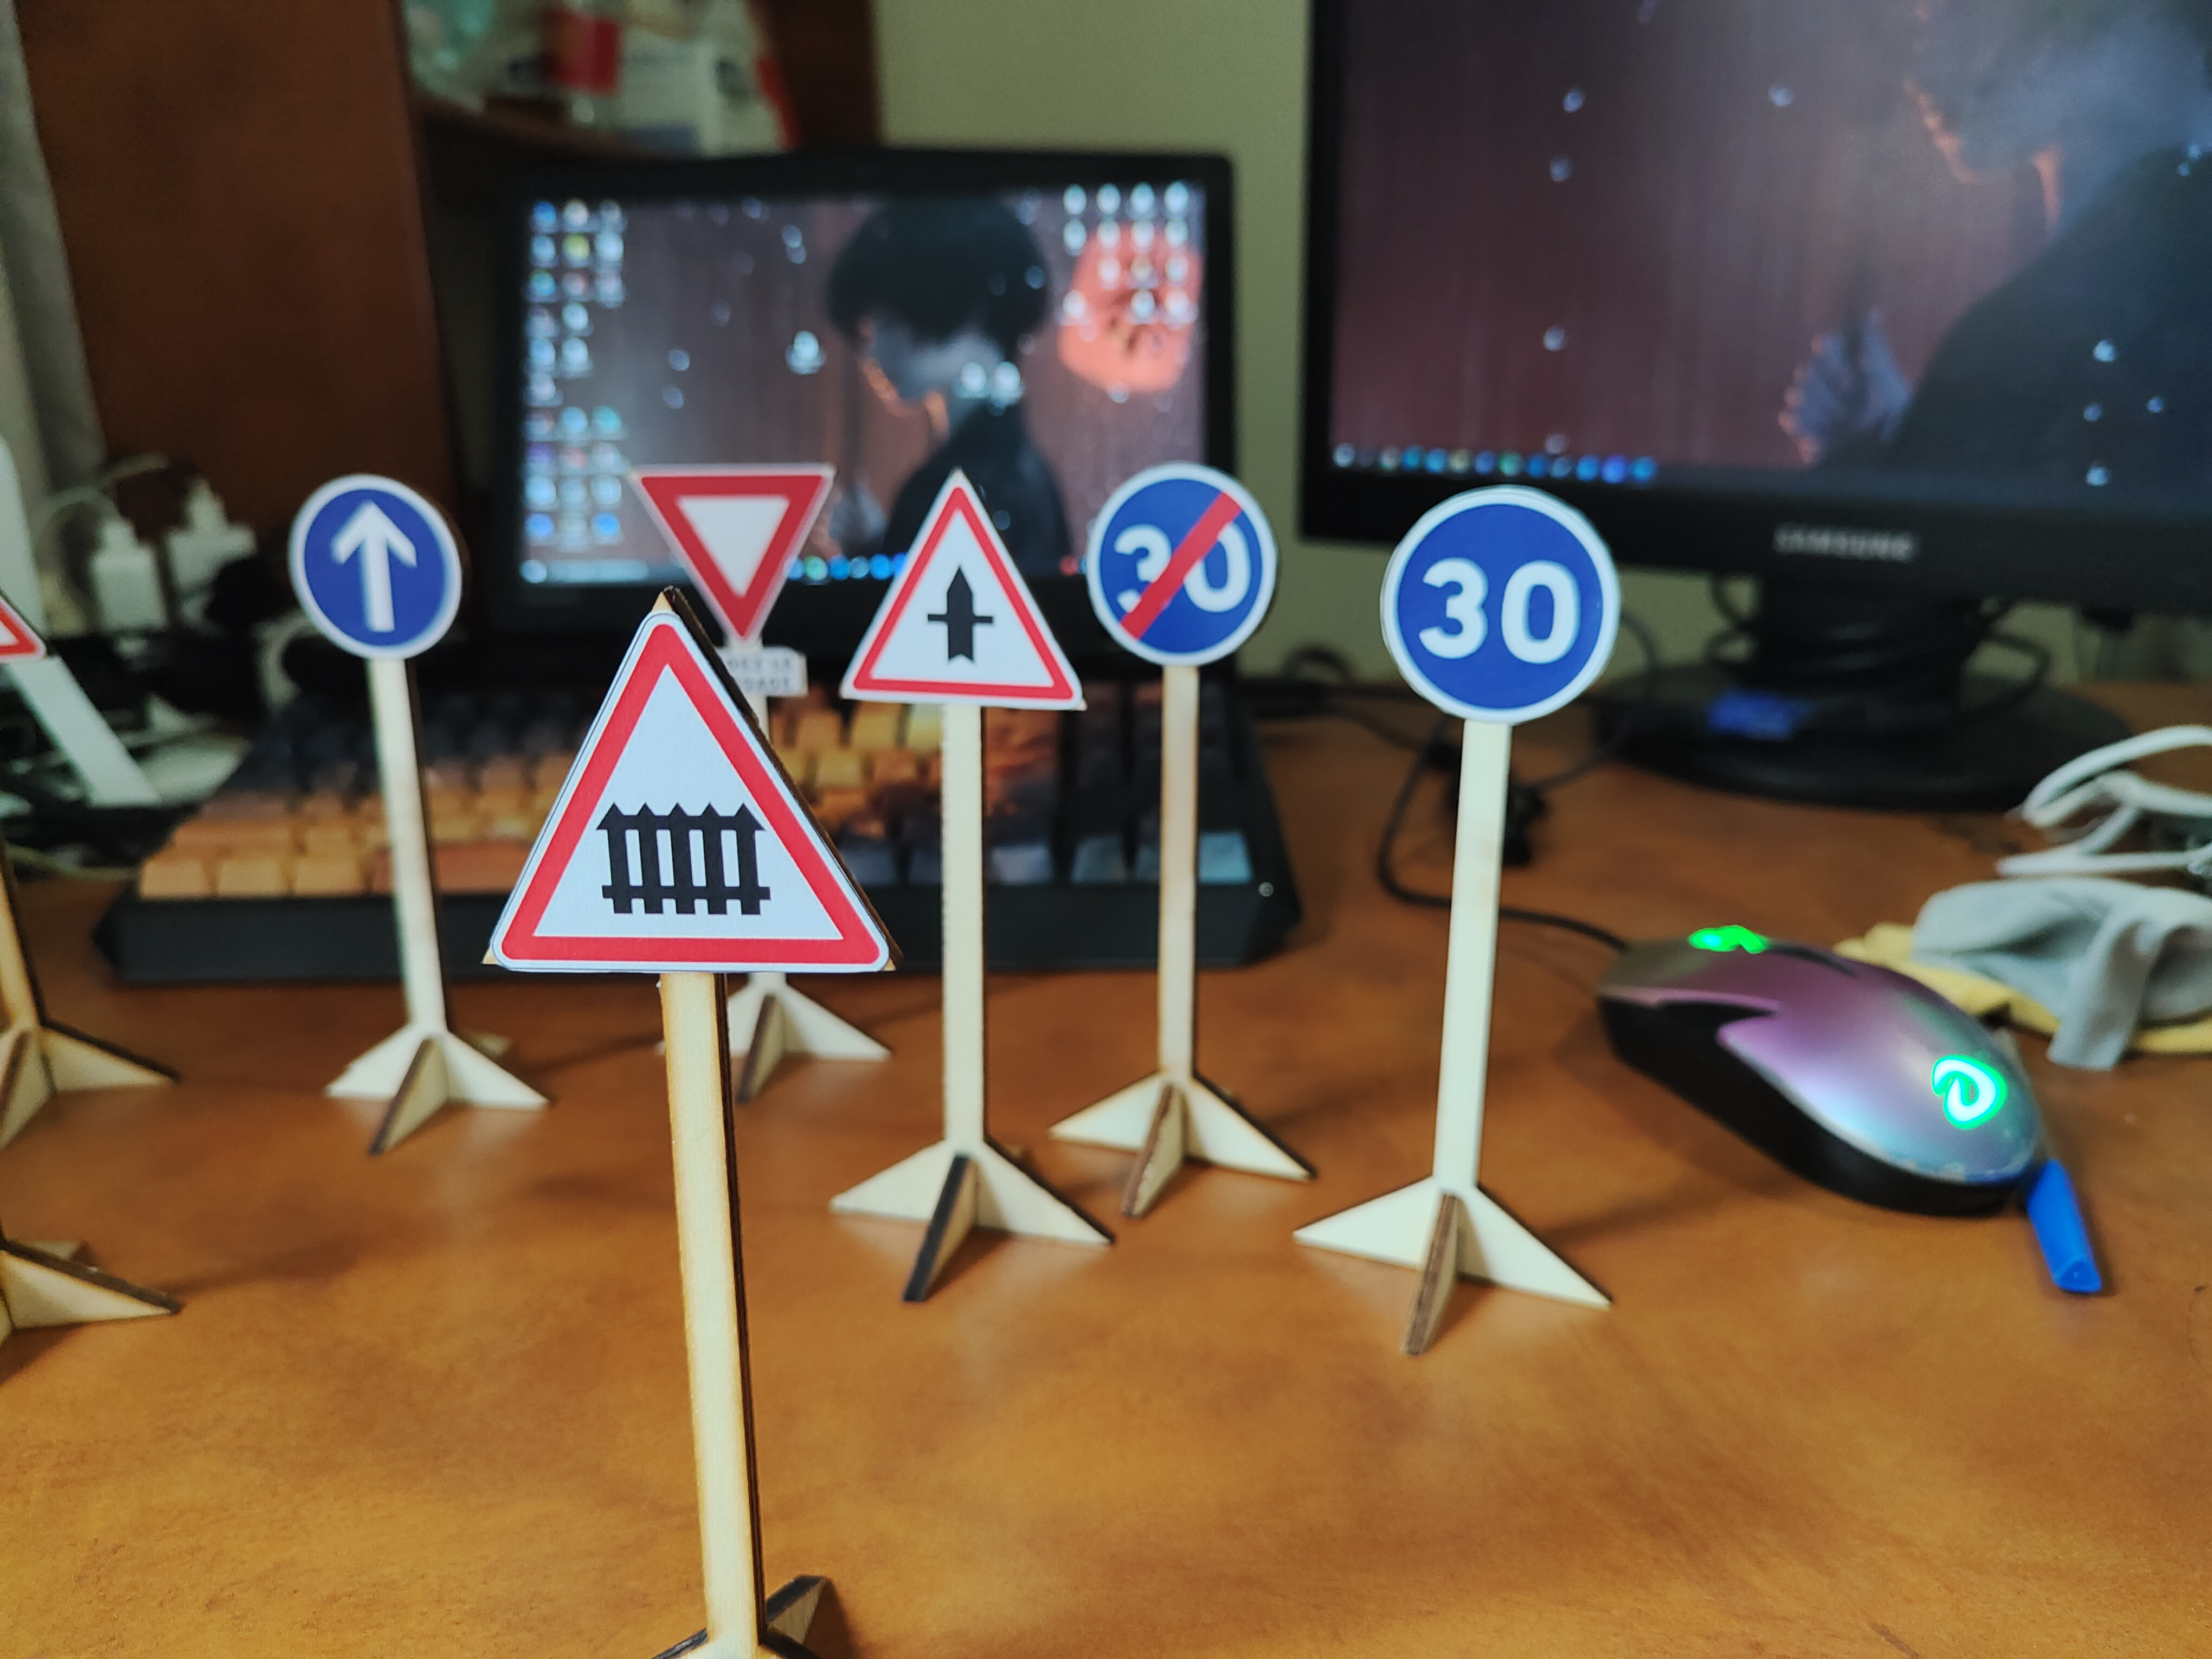ban: (1083, 457, 1277, 669)
first: (838, 460, 1082, 706)
second: (631, 457, 834, 695)
straight: (282, 467, 463, 660)
thirty: (1376, 481, 1622, 723)
train: (474, 594, 876, 976)
